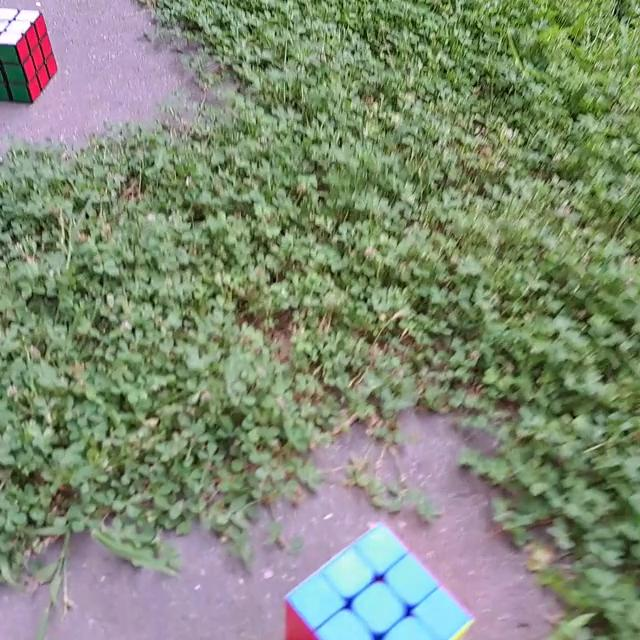rubix_cube: (277, 515, 478, 640), (0, 6, 62, 106)
